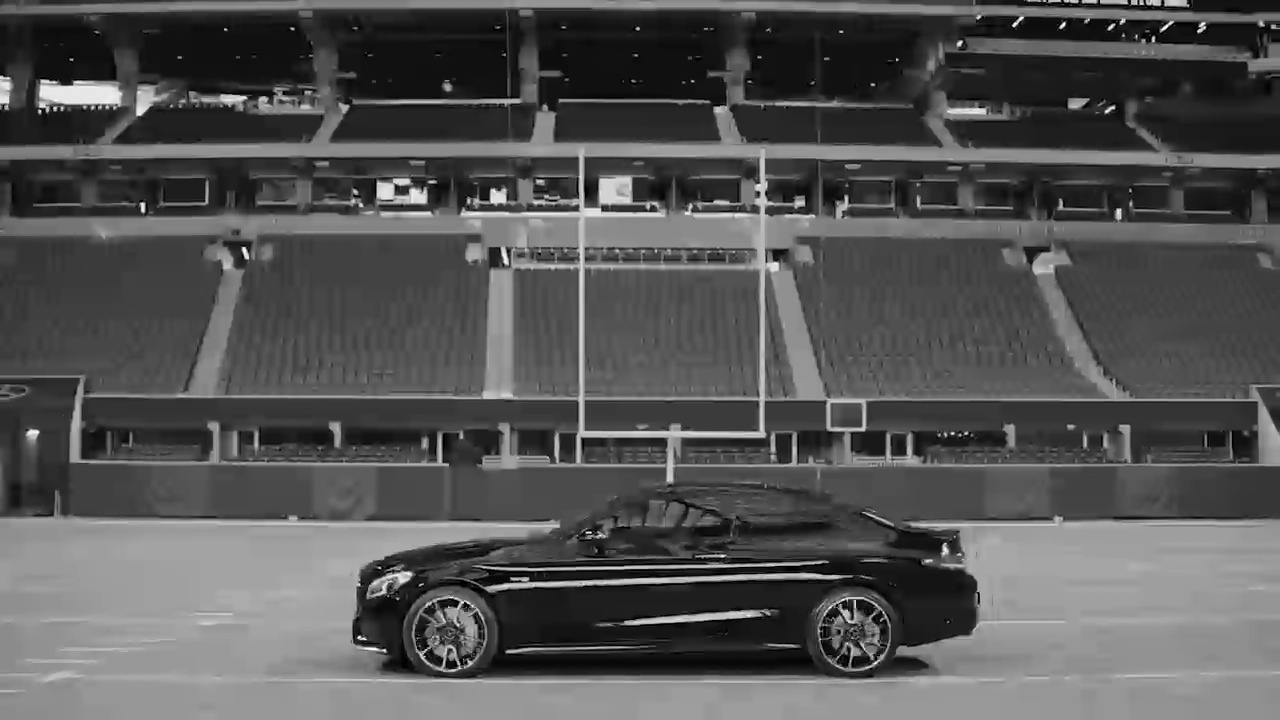car: (353, 478, 987, 678)
